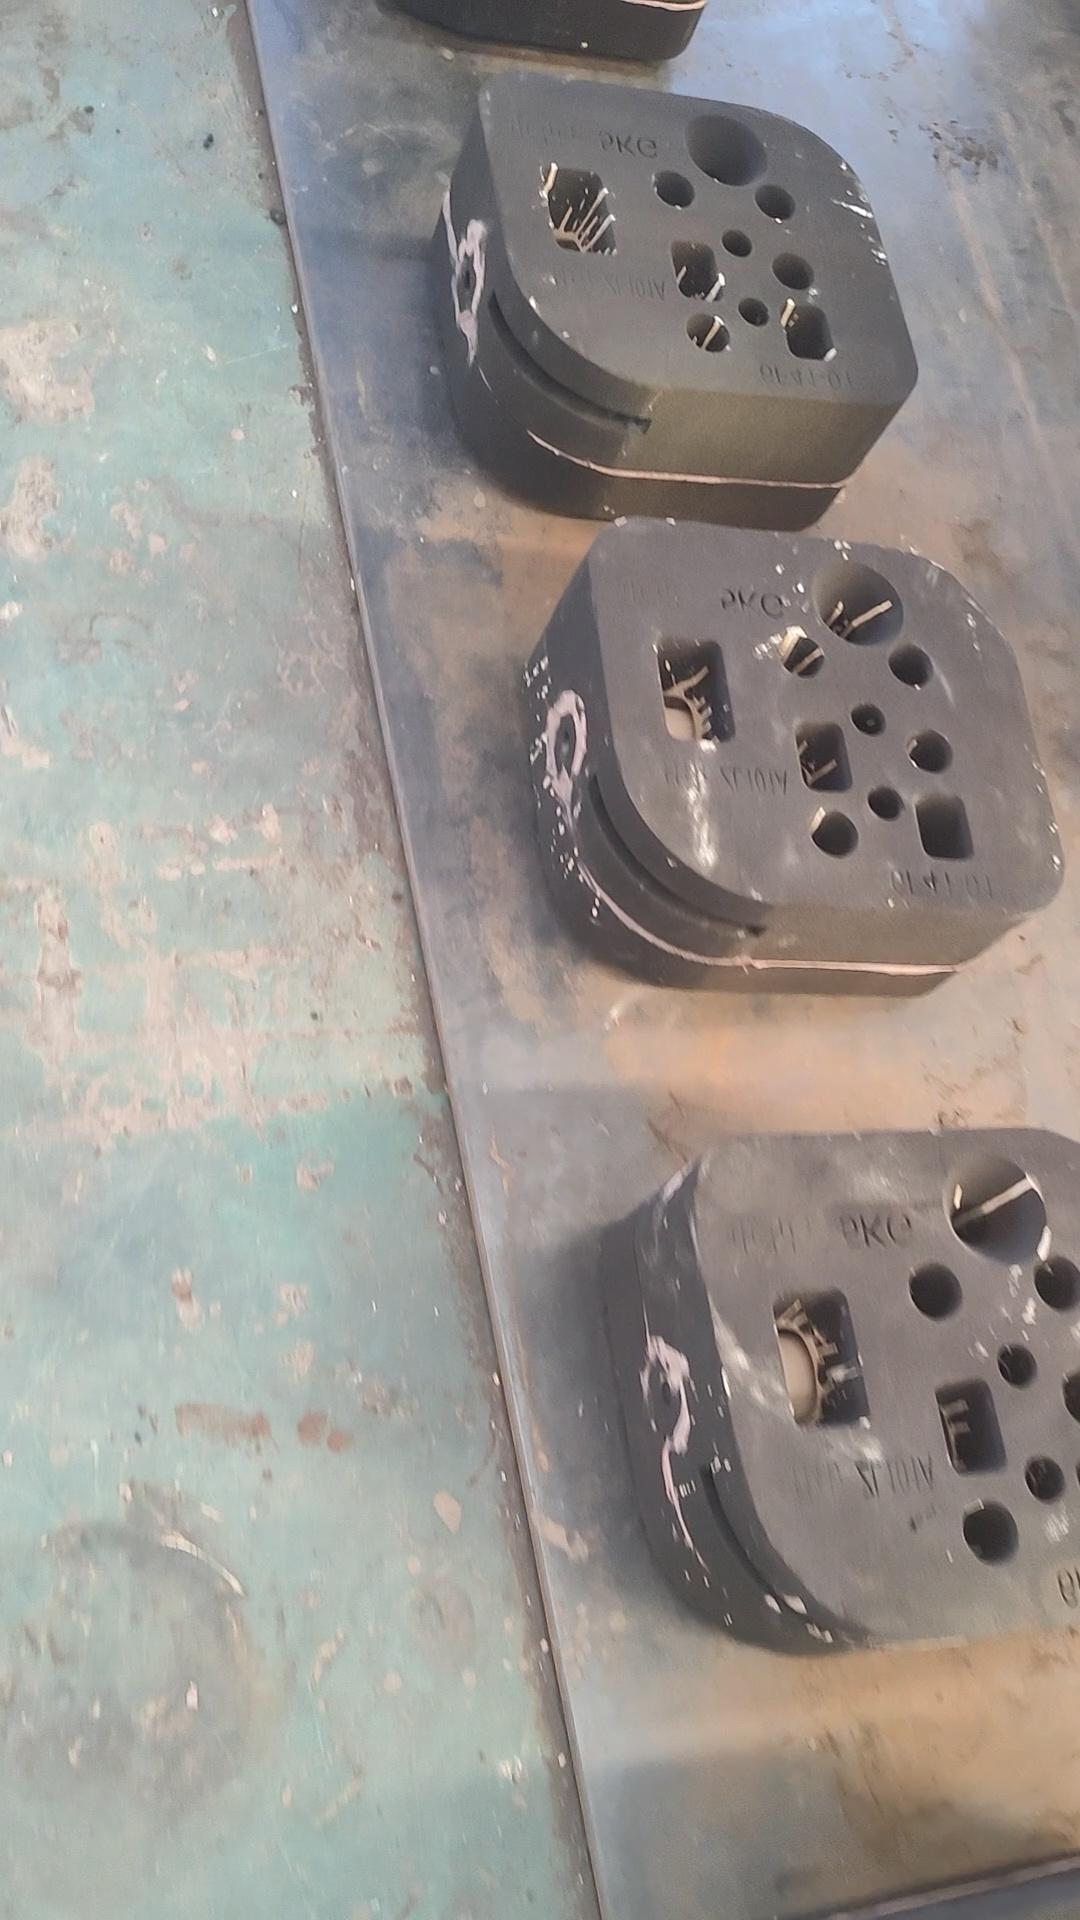pouring hole: (943, 1149, 1048, 1267), (812, 556, 905, 647), (680, 112, 770, 186)
